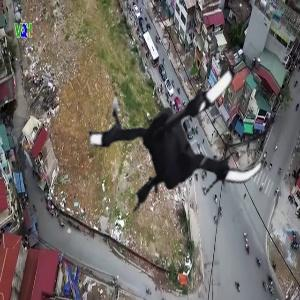drone: (73, 46, 270, 243)
